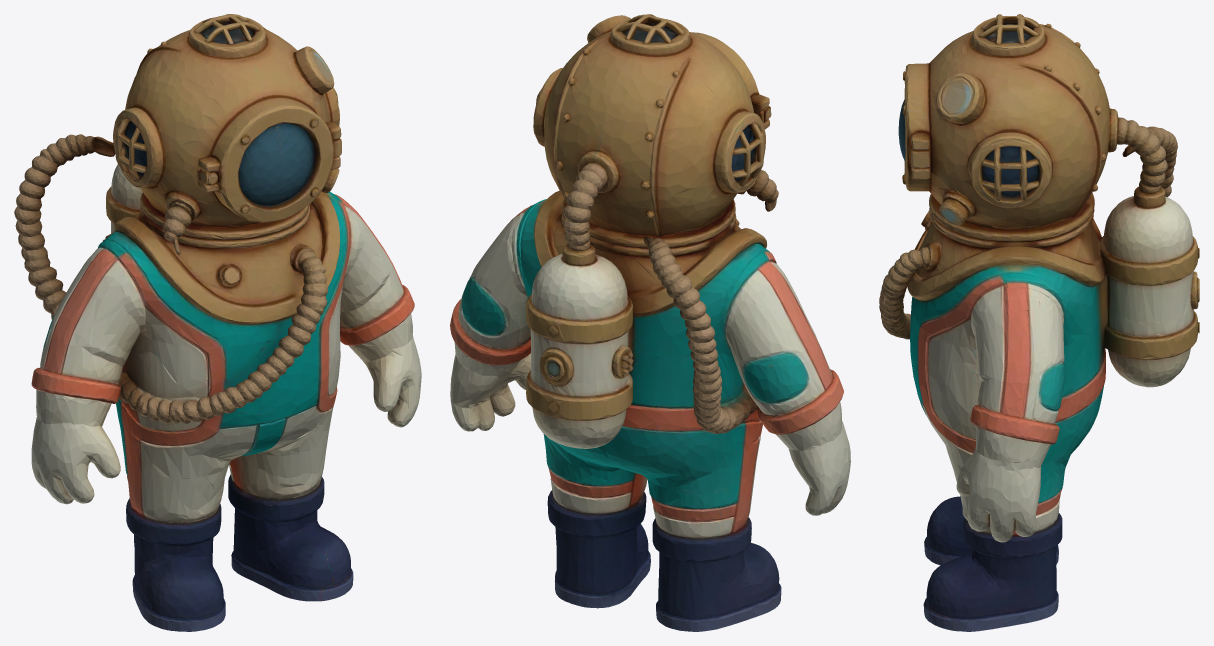
Rendered from diver.glb.
3 views of the same model, side by side, from view 1: azimuth 30°, elevation 25°; view 2: azimuth 150°, elevation 25°; view 3: azimuth 270°, elevation 25° (orthographic). The views are drawn at different scales.
Visible parts, largest first — view 1: geometry_0; view 2: geometry_0; view 3: geometry_0.
Boxes of the visible parts, x1,y1,x2,y2 form: geometry_0: [14, 14, 421, 631]; geometry_0: [450, 14, 850, 631]; geometry_0: [879, 14, 1199, 631].
Bounding box in the file's own units: 0.6983 × 0.9994 × 0.5148.
1 material, 1 textured.
